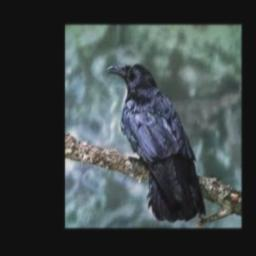Crow: (107, 63, 206, 223)
